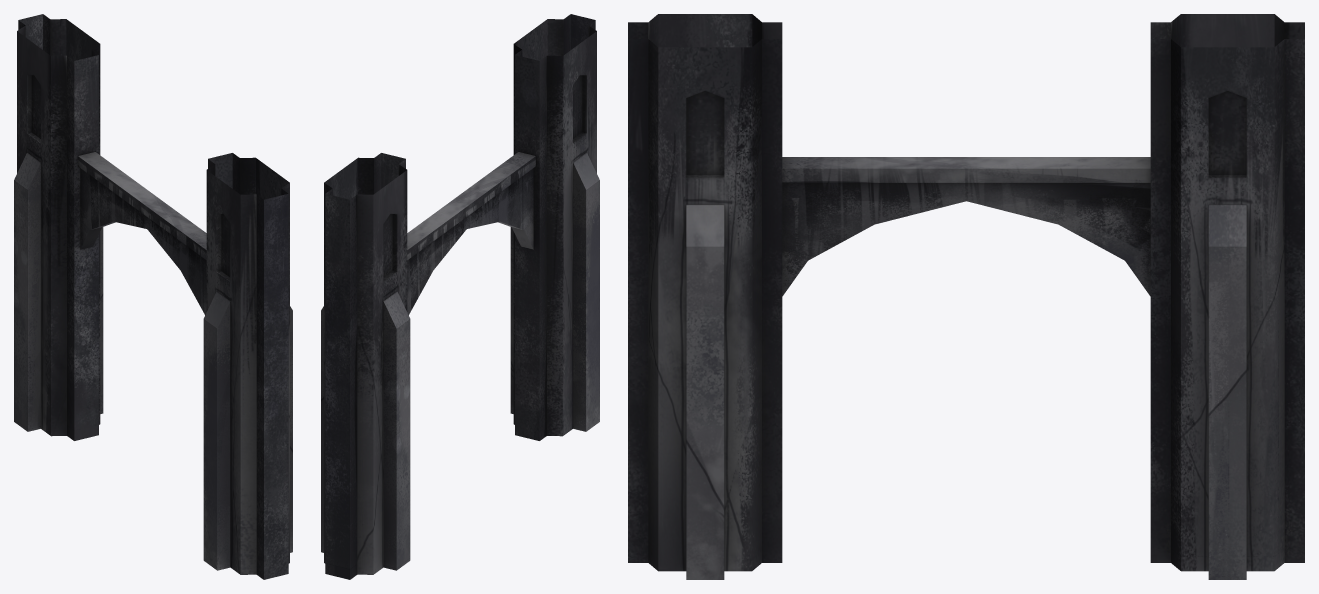
File: obstacle_doorway.fbx
The picture shows the model from 3 angles, left to right: view 1: azimuth 30°, elevation 25°; view 2: azimuth 150°, elevation 25°; view 3: azimuth 270°, elevation 25°; orthographic projection. The views are drawn at different scales.
Parts seen in each view (by area): view 1: obstacle_doorway; view 2: obstacle_doorway; view 3: obstacle_doorway.
Boxes of the visible parts, left/top/right/bottom form: obstacle_doorway: left=14, top=14, right=292, bottom=579; obstacle_doorway: left=321, top=14, right=599, bottom=579; obstacle_doorway: left=628, top=14, right=1304, bottom=579.
Size of the model in its own units: 3.04 by 14.65 by 17.15.
